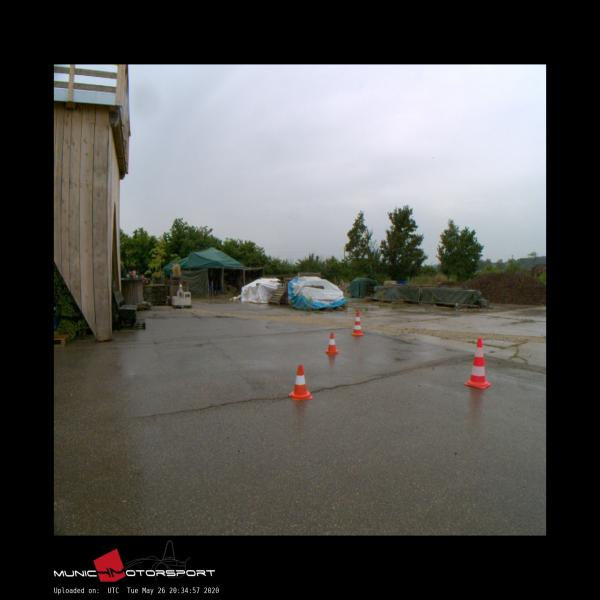large_orange_cone: (464, 338, 490, 388), (351, 310, 363, 336)
orange_cone: (288, 364, 312, 400), (325, 333, 340, 354)
